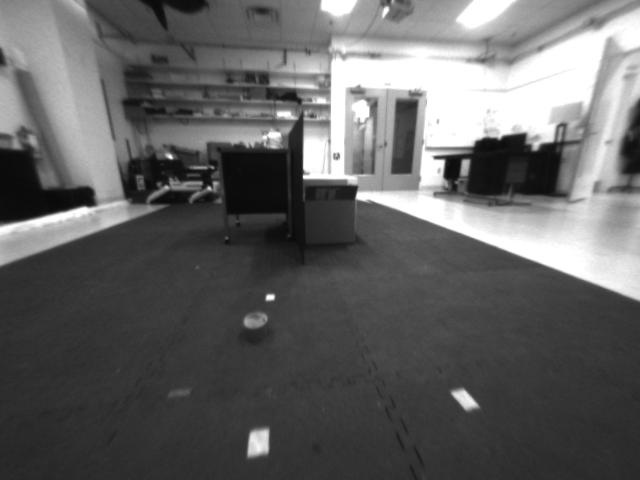dogtoy: (227, 299, 282, 347)
